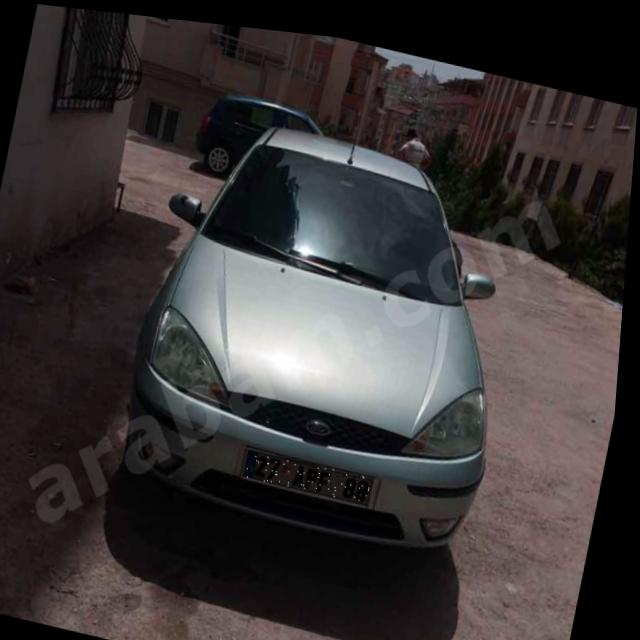license_plate: (245, 441, 382, 497)
